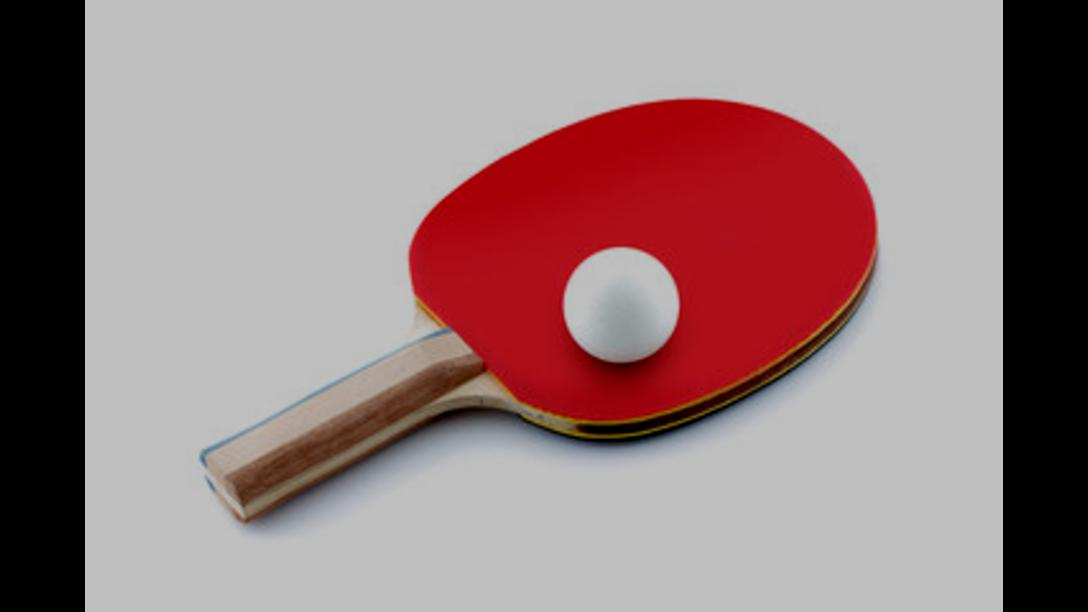Table-Tennis-Ball: (563, 247, 677, 361)
